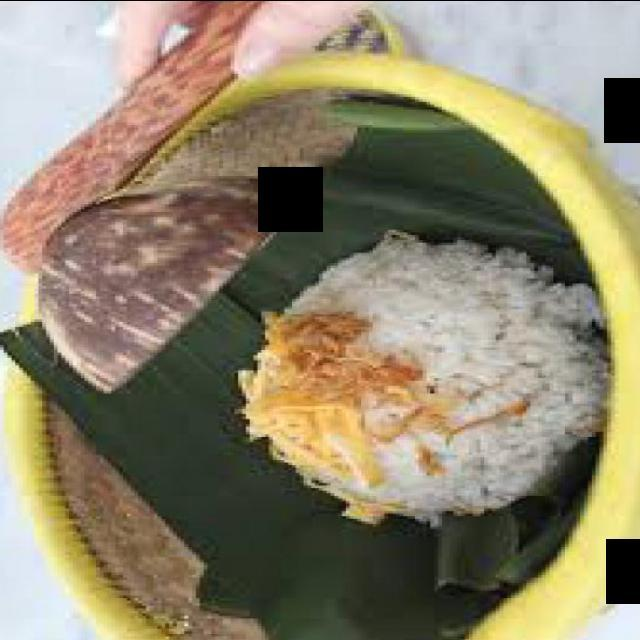rice: (247, 238, 611, 520)
